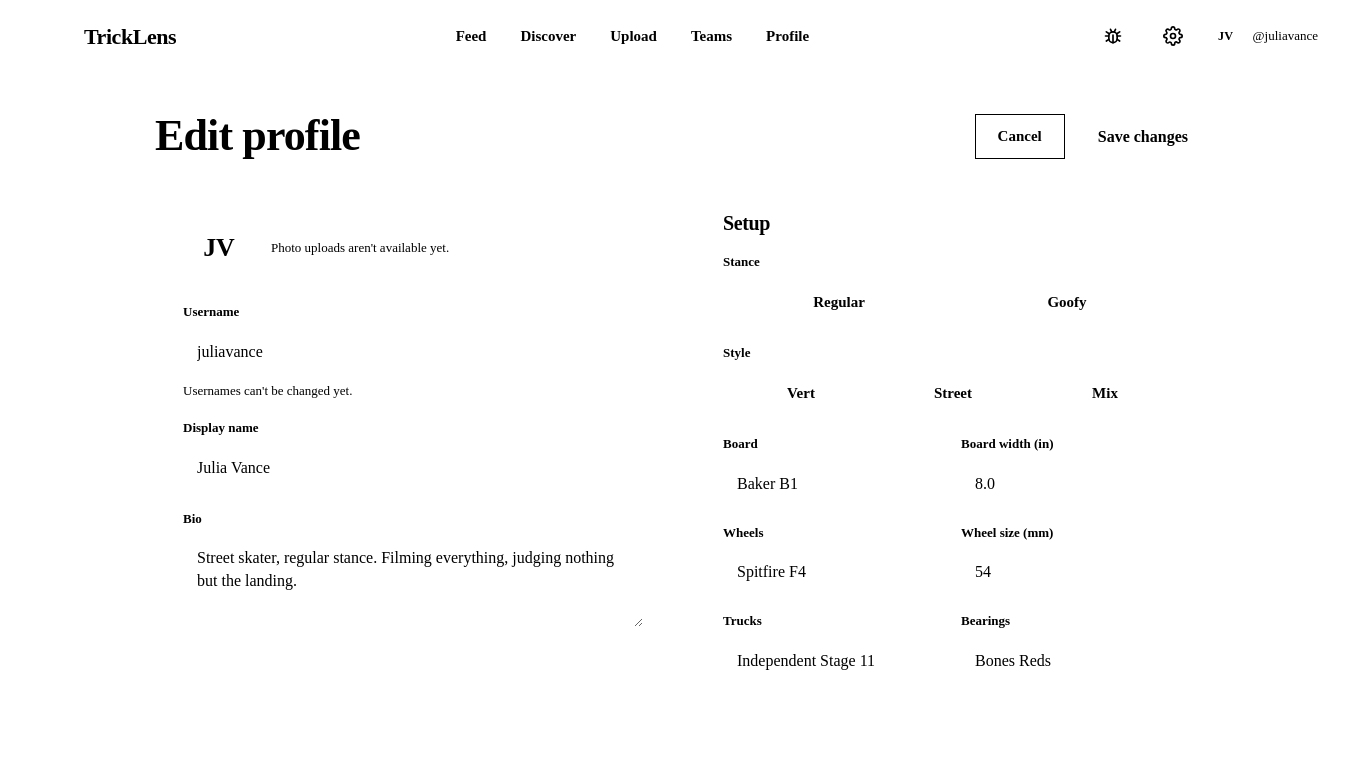
edit profile › checks wheel and board sizes against the API limits
Type "99" into the field labelled "Wheel size (mm)" at x=1072, y=572, box [961,549,1183,595]
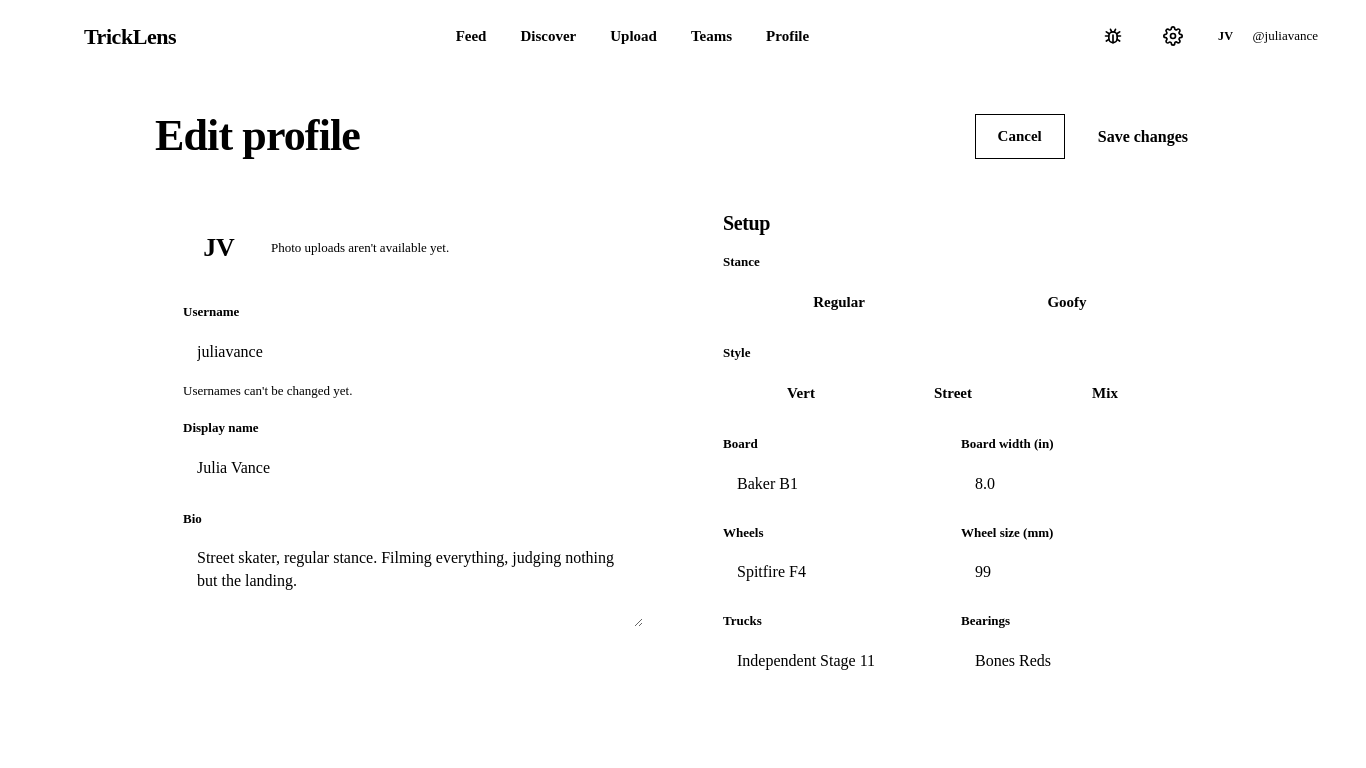
Click the button "Save changes" at x=1143, y=136, box [1075,114,1211,159]
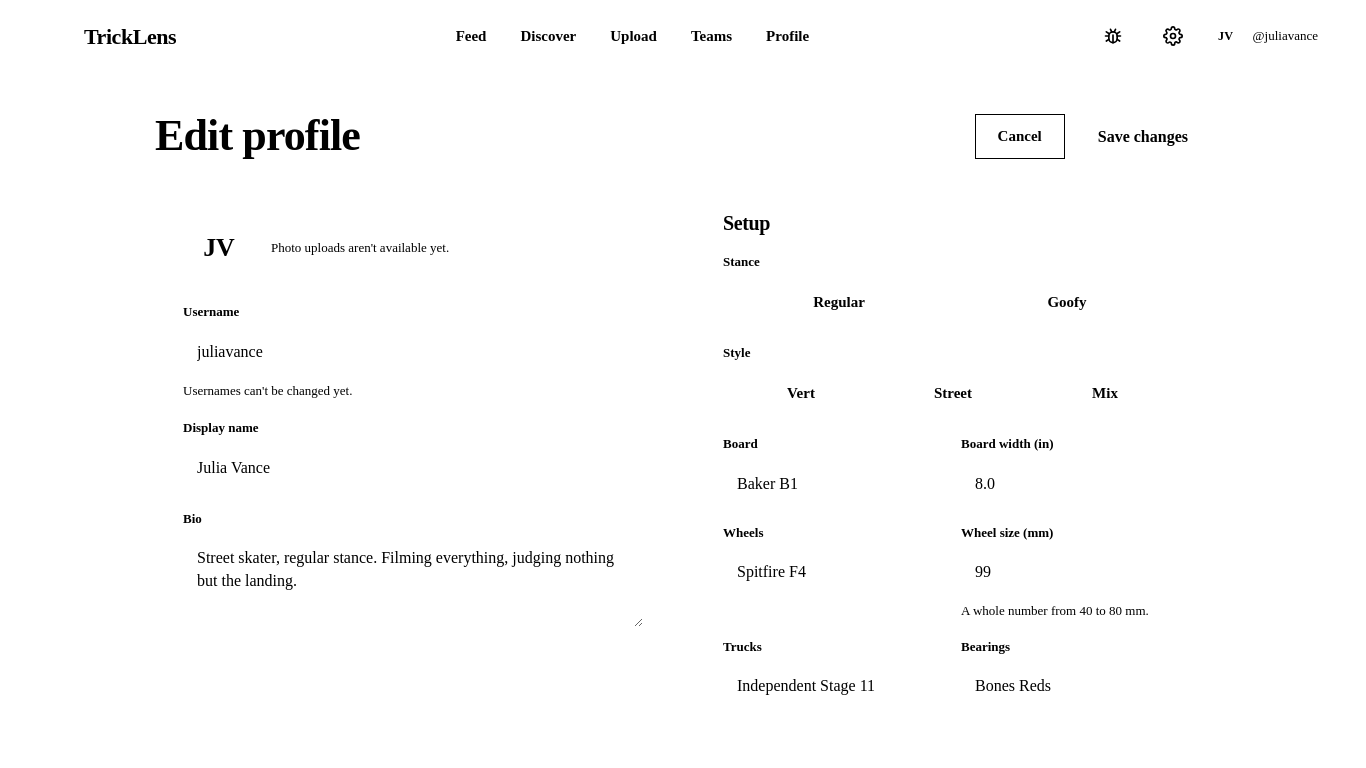
Result: the text "A whole number from 40 to 80 mm." is shown at [961,603,1149,618]
